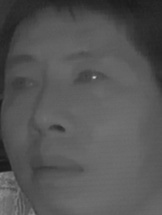eye: (71, 63, 111, 92), (1, 73, 40, 95)
mouth: (26, 149, 83, 184)
